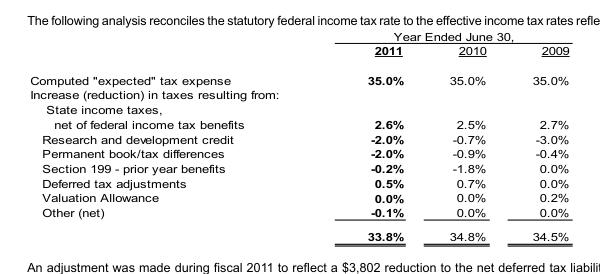table: (29, 29, 568, 242)
table column: (29, 29, 305, 242), (305, 29, 426, 242), (426, 29, 508, 242), (508, 29, 568, 242)
table column header: (29, 29, 568, 65)
table projected row header: (29, 101, 568, 116), (29, 87, 568, 101)
table row: (29, 42, 568, 65), (29, 65, 568, 87), (29, 204, 568, 224), (29, 224, 568, 242), (29, 101, 568, 116), (29, 116, 568, 131), (29, 131, 568, 146), (29, 160, 568, 175), (29, 175, 568, 190), (29, 87, 568, 101), (29, 146, 568, 160), (29, 190, 568, 204), (29, 29, 568, 42)
table spanning cell: (305, 29, 568, 42)
